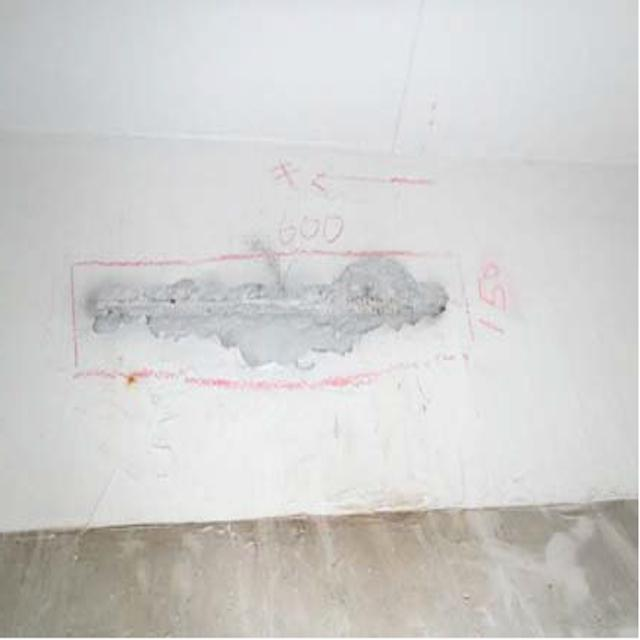spalling: (83, 261, 453, 370)
